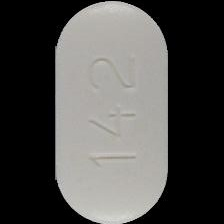55289-384: (0, 0, 224, 224)
